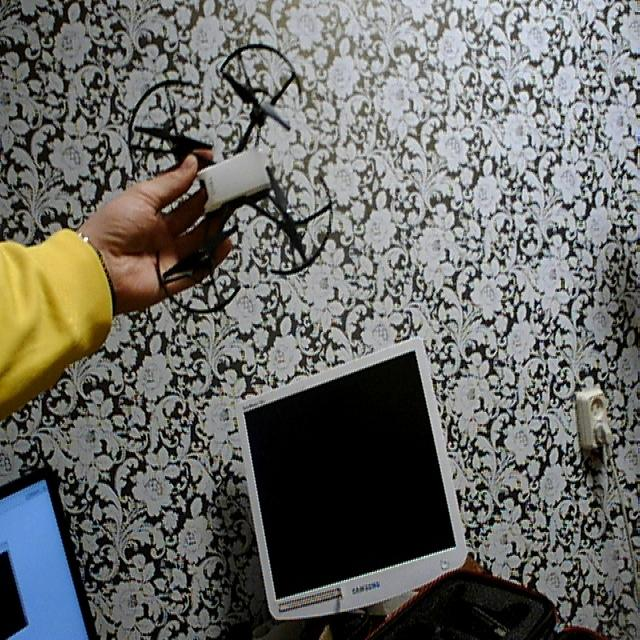drone: (118, 38, 348, 321)
